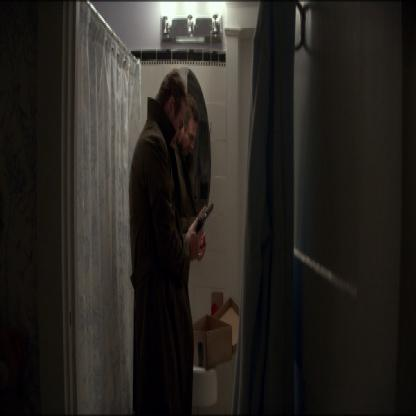Guns: (195, 199, 214, 238)
